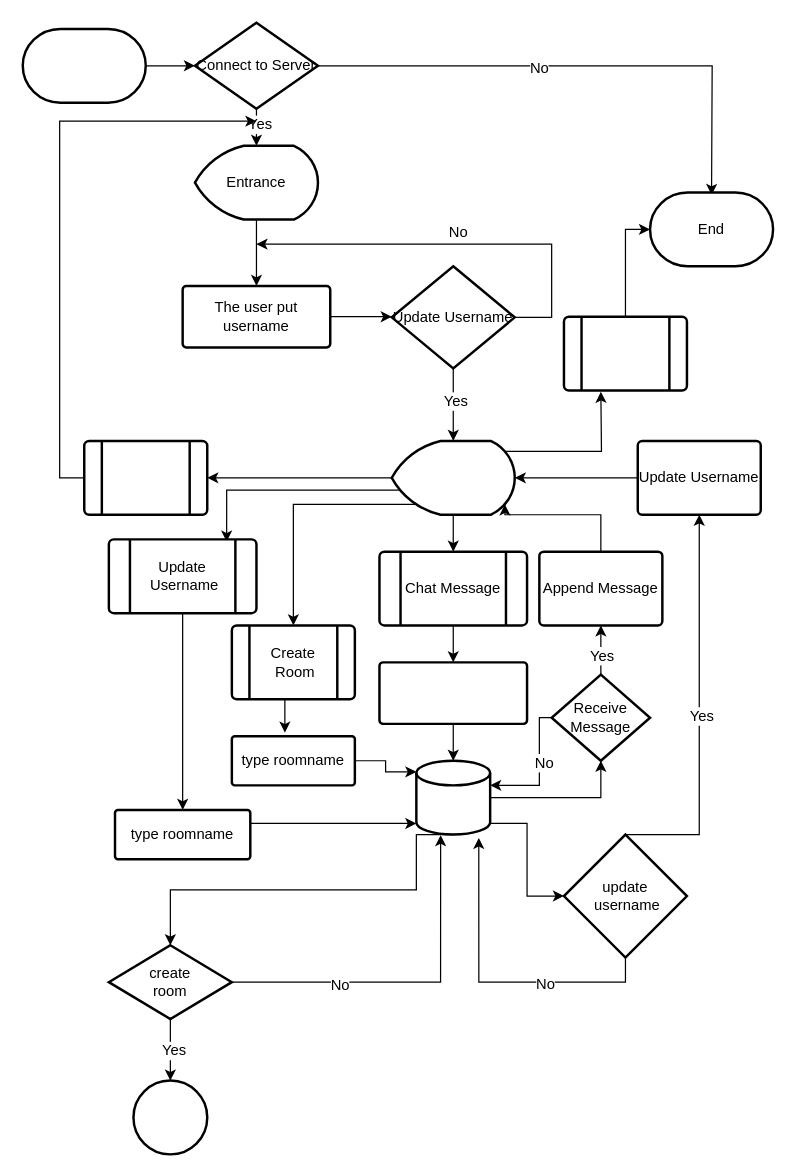
The diagram is 795 pixels wide and 1176 high, and some of its shapes have lost their labels. Each missing label, with the centre of its shape:
"Close" goes at point (625, 353).
"Go to room" goes at point (170, 1117).
"Lobby" goes at point (452, 477).
"Logout" goes at point (145, 477).
"Server" goes at point (453, 797).
"Start" goes at point (83, 65).
"user type message" goes at point (453, 692).
